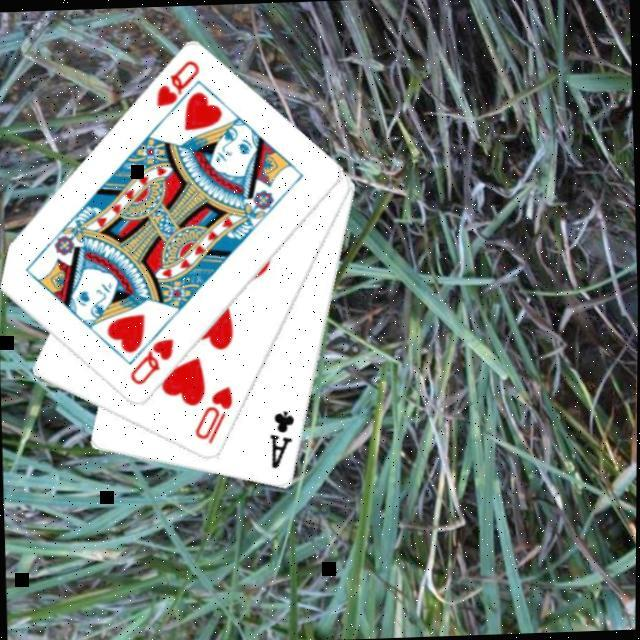10H: (190, 383, 238, 449)
AC: (267, 408, 301, 473)
QH: (152, 58, 206, 126), (126, 336, 179, 390)
